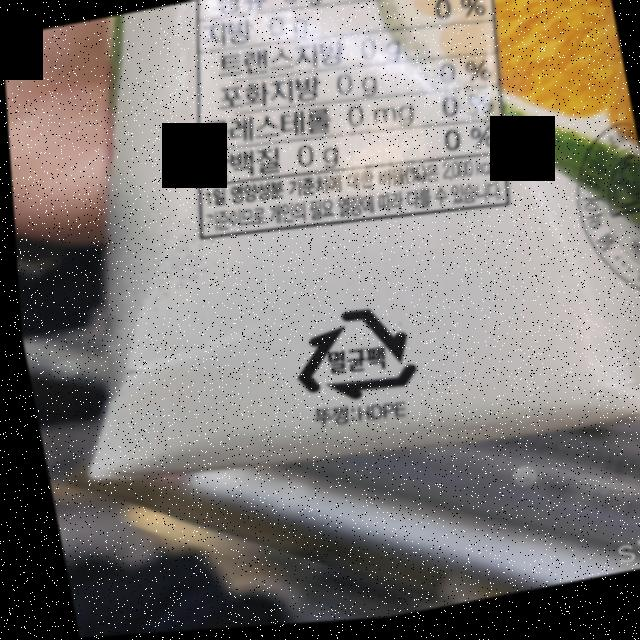SterilizedPack: (277, 301, 418, 415)
